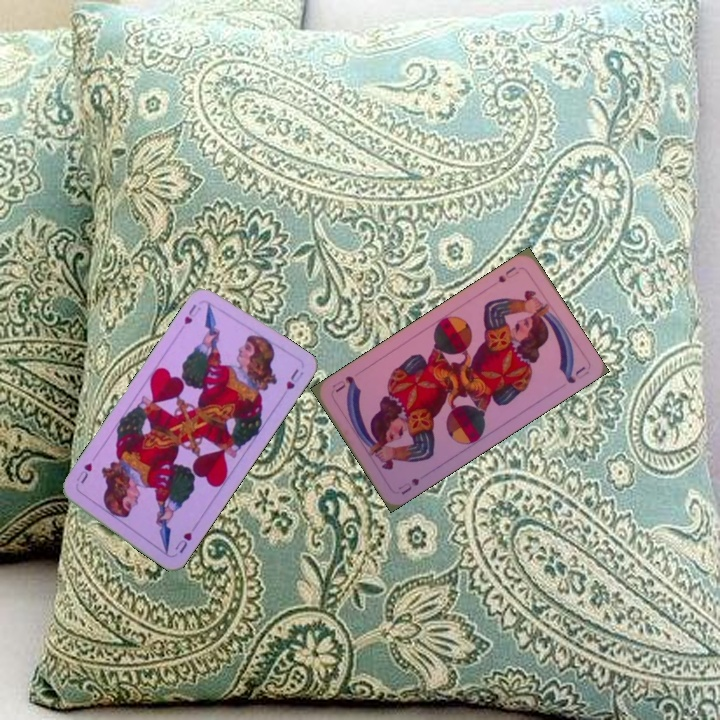HU: (180, 300, 204, 327), (171, 528, 194, 556)
SU: (394, 474, 422, 498), (494, 263, 522, 285)
